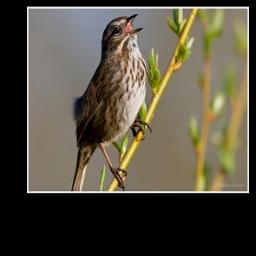Sparrow: (71, 13, 153, 192)
